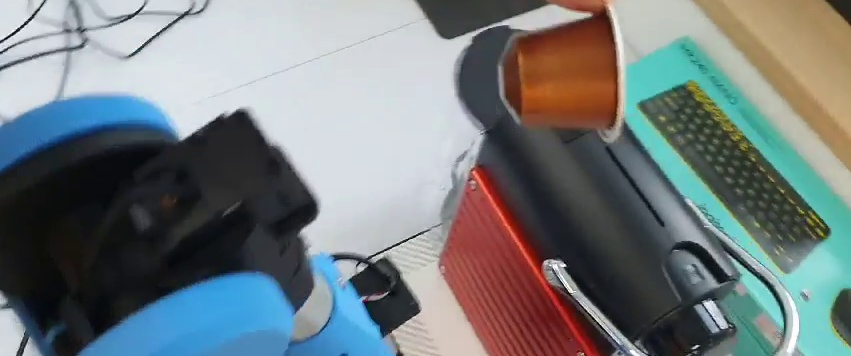capsule_3: (495, 4, 626, 149)
